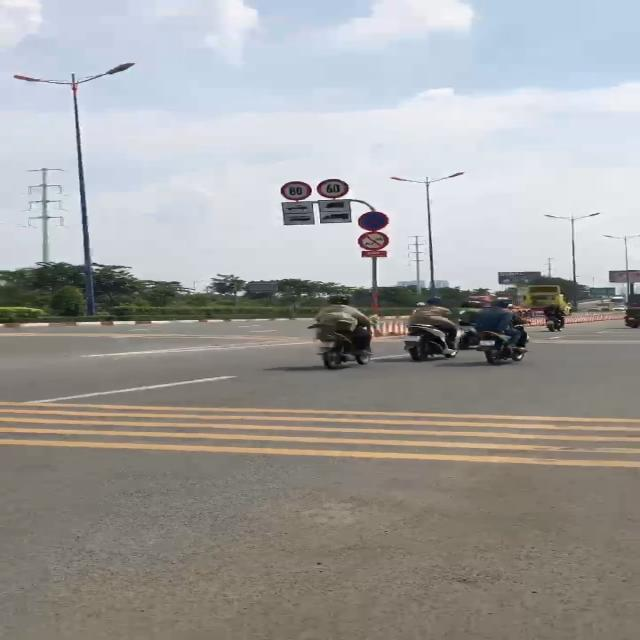Bien bao toc do toi da cho phep: (314, 178, 351, 200), (278, 179, 313, 200)
